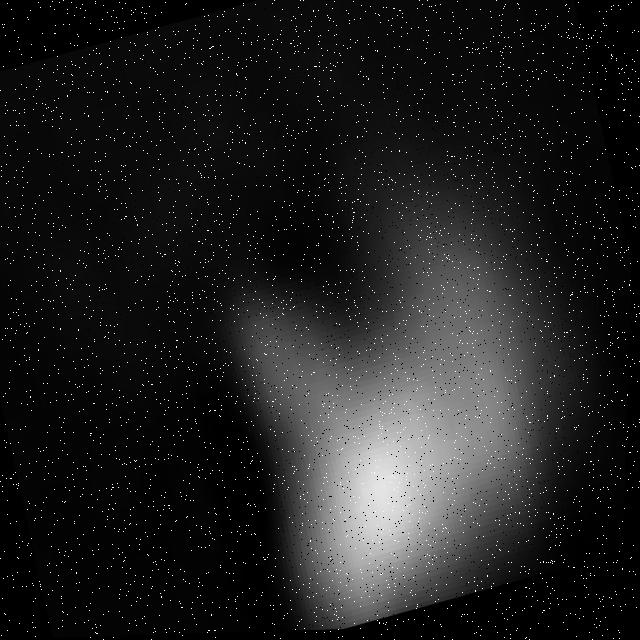person: (145, 70, 639, 637)
